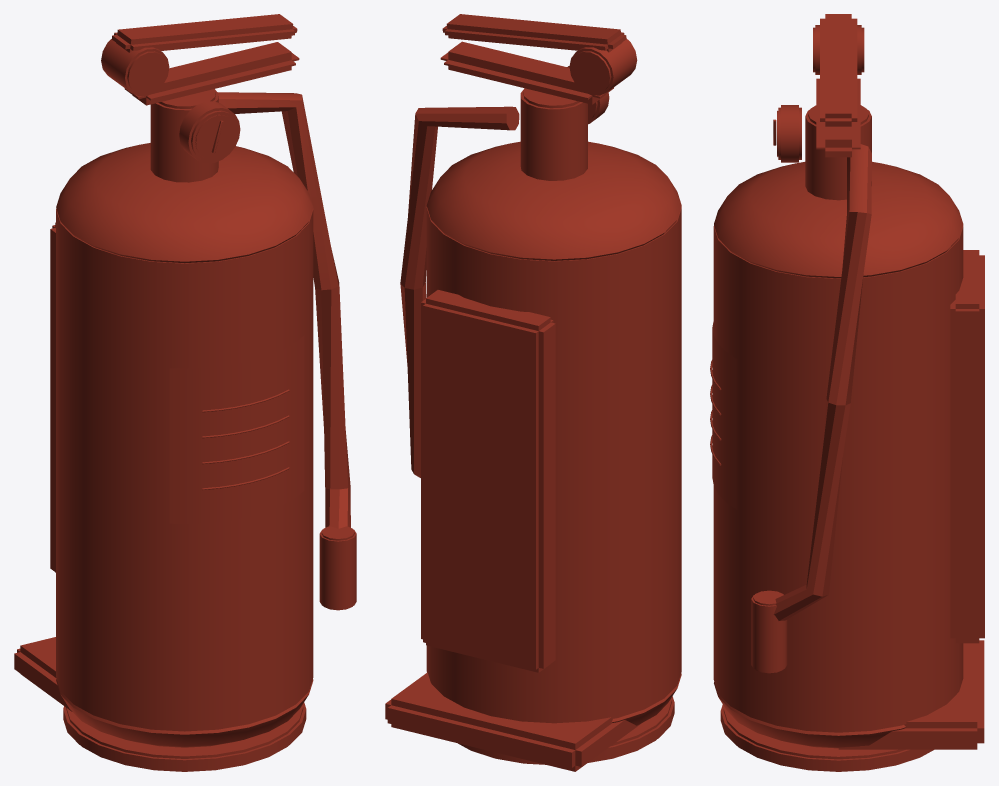
File: OBJ-035_Extintor.fbx
3 views of the same model, side by side, from view 1: azimuth 30°, elevation 25°; view 2: azimuth 150°, elevation 25°; view 3: azimuth 270°, elevation 25° (orthographic). The views are drawn at different scales.
Visible parts, largest first — view 1: GEO-OBJ-035_Extintor.004; view 2: GEO-OBJ-035_Extintor.004; view 3: GEO-OBJ-035_Extintor.004.
Boxes of the visible parts, box(x1,y1,x2,y2) form: GEO-OBJ-035_Extintor.004: box(14, 14, 356, 771); GEO-OBJ-035_Extintor.004: box(385, 14, 681, 771); GEO-OBJ-035_Extintor.004: box(710, 14, 984, 771).
Bounding box in the file's own units: 0.2138 × 0.5417 × 0.1982.
